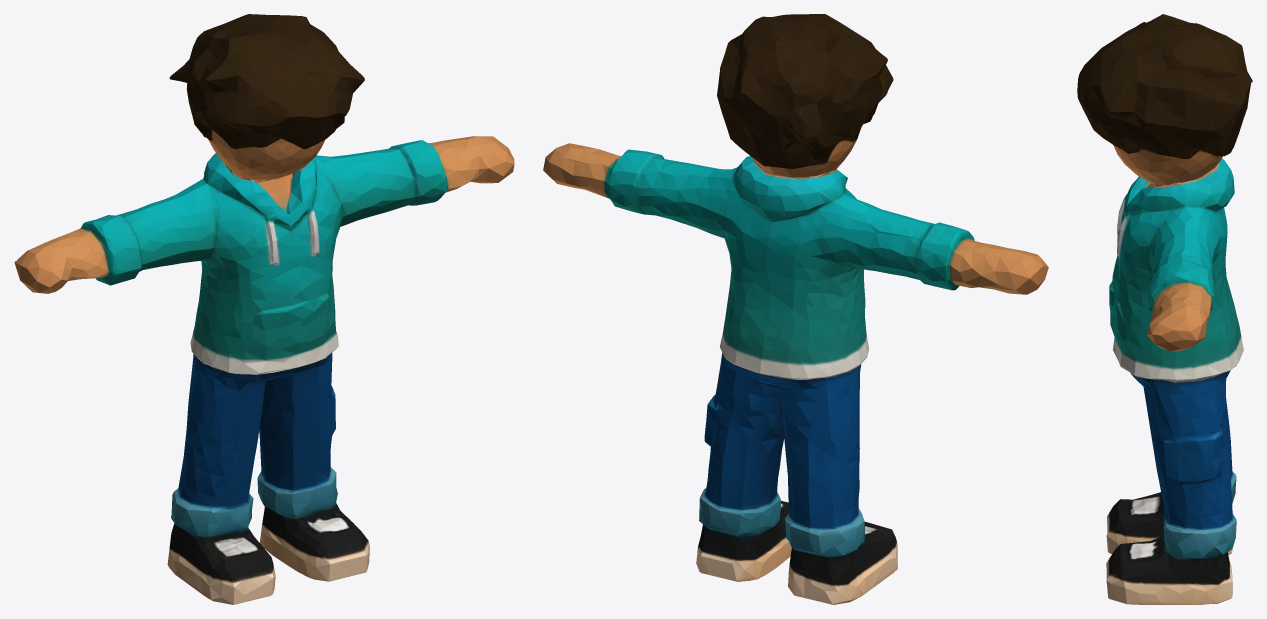
Rendered from male-student-1-textured.glb.
The picture shows the model from 3 angles, left to right: view 1: azimuth 30°, elevation 25°; view 2: azimuth 150°, elevation 25°; view 3: azimuth 270°, elevation 25°; orthographic projection.
Parts seen in each view (by area): view 1: geometry_0; view 2: geometry_0; view 3: geometry_0.
Part boxes in pixels (bbox=[...]): geometry_0: bbox=[14, 14, 514, 604]; geometry_0: bbox=[543, 14, 1048, 604]; geometry_0: bbox=[1077, 14, 1252, 604].
Bounding box in the file's own units: 0.9376 × 1 × 0.2961.
Materials: 1 (1 with a texture image).
